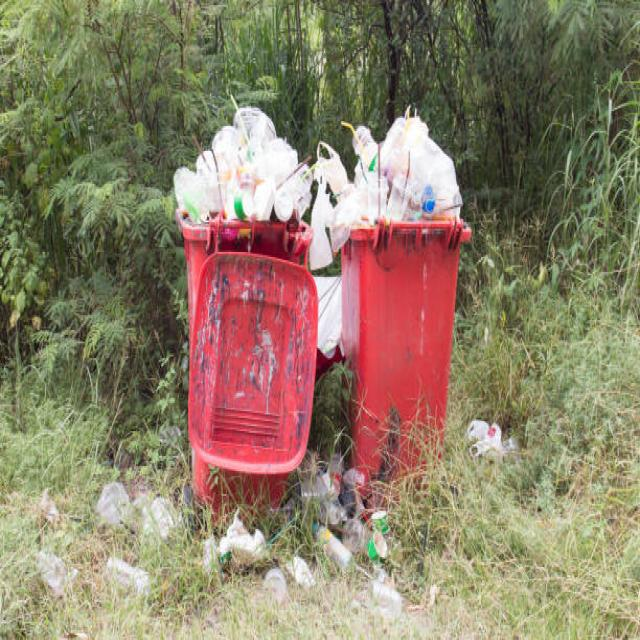plastic: (178, 111, 450, 211)
